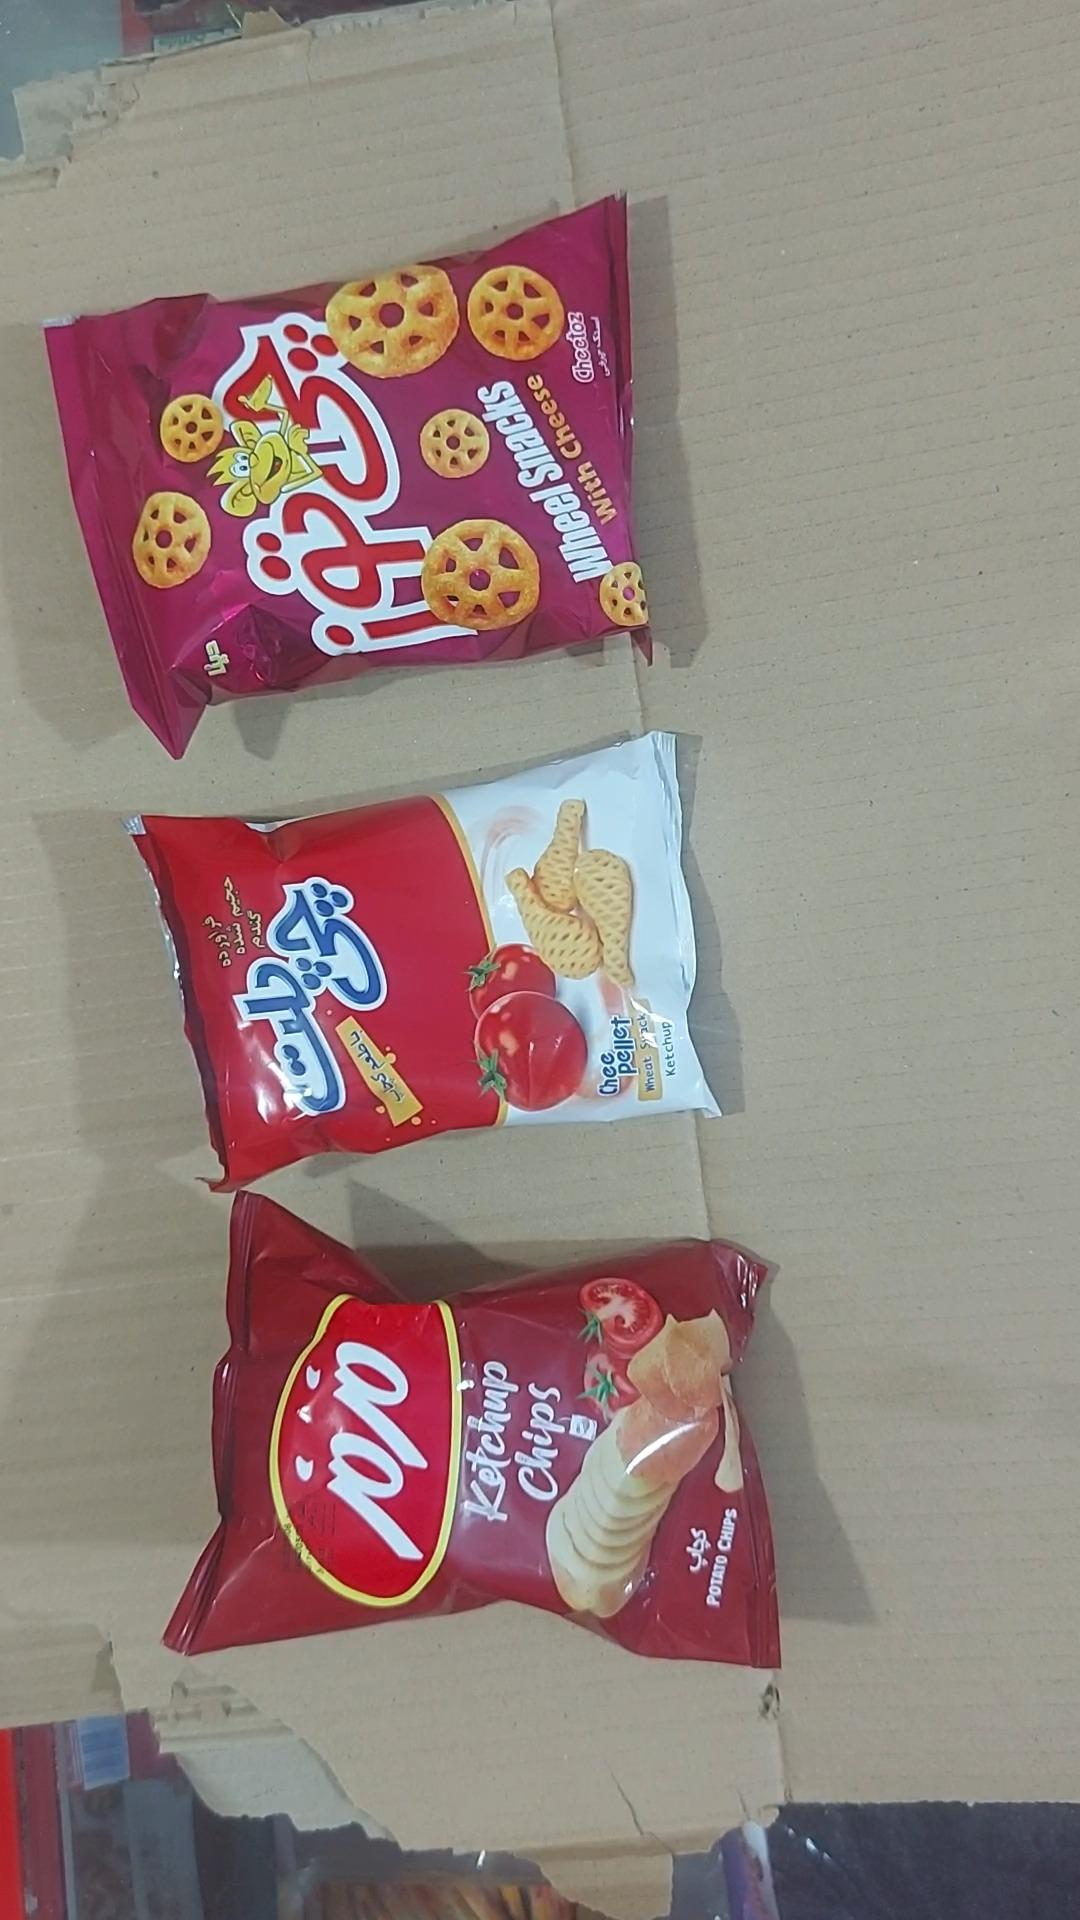Chee pellet ketchup: (124, 732, 719, 1196)
Cheetoz wheelsnack: (44, 195, 657, 764)
Maz Maz ketchup chips: (161, 1191, 783, 1672)
